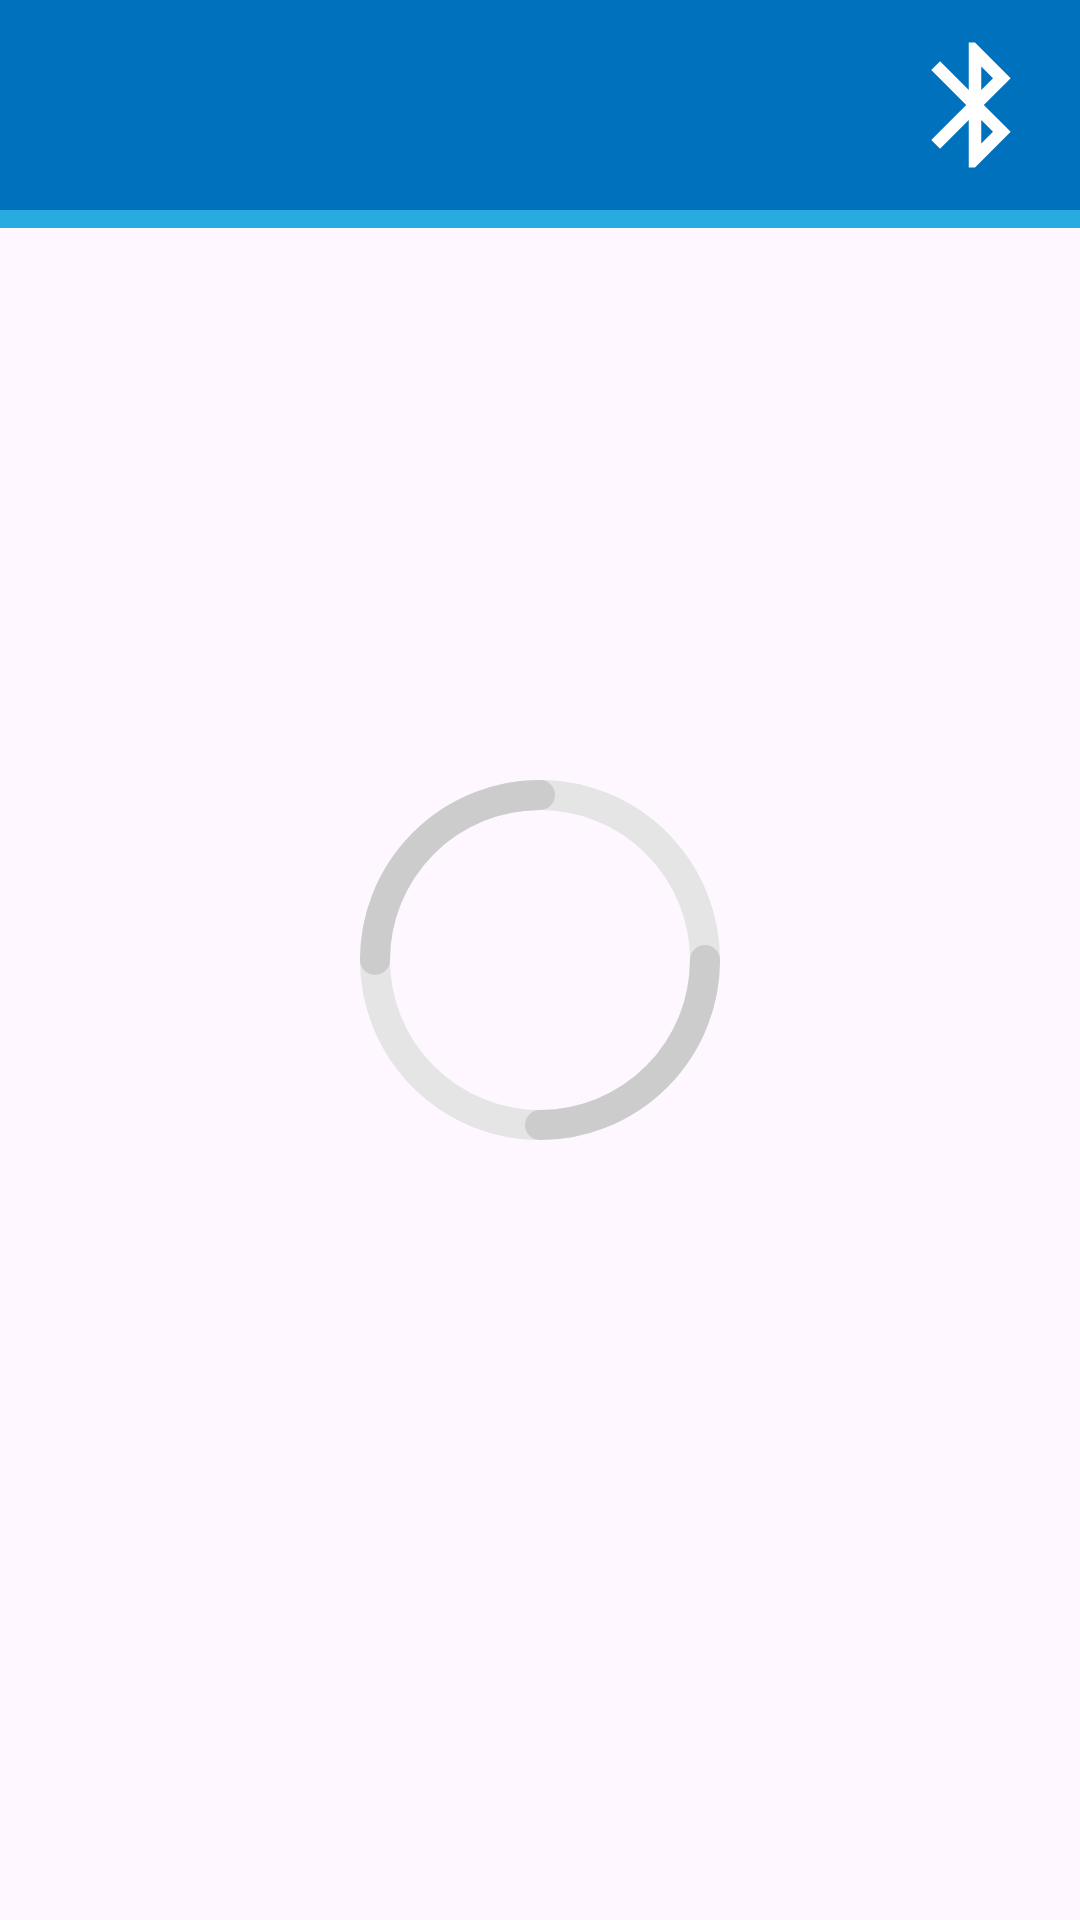

Icon click points for this 1080w x 1920h phone screenshot, format (x=x, y=y):
load: (x=540, y=960)
